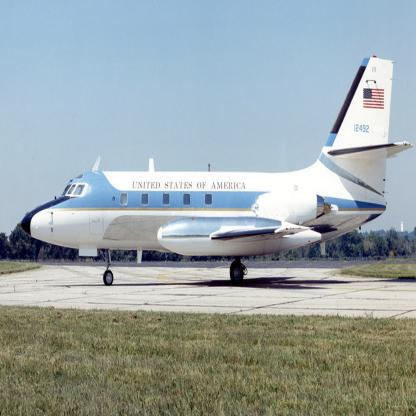CIV_Plane: (18, 53, 413, 292)
